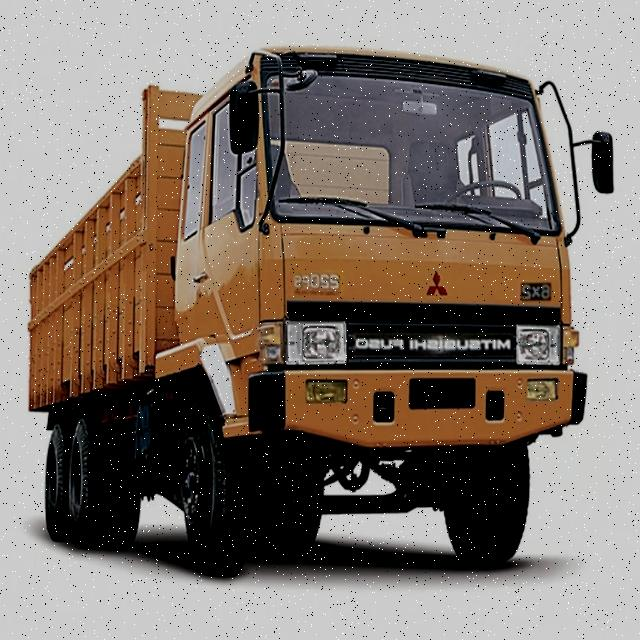truck: (29, 42, 615, 564)
